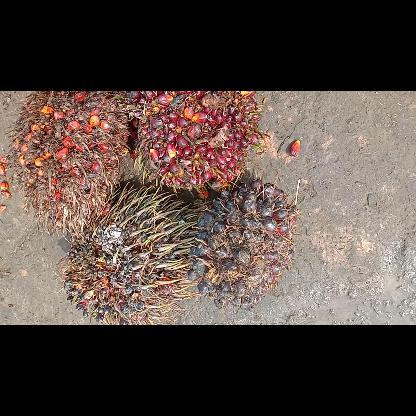TBS abnormal: (56, 184, 190, 324)
TBS masak: (138, 91, 262, 197)
TBS mentah: (191, 179, 295, 307)
Terlalu masak: (10, 91, 134, 237)
